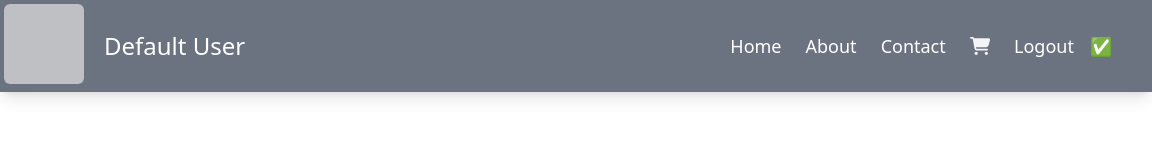
Test: Should change Login button to logout on click
Click the button "Logout": (1042, 46) [1014,32,1070,60]
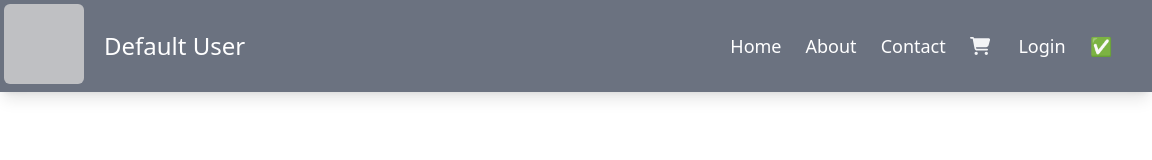
Check: the button "Login" is shown, box [1014,32,1070,60]
